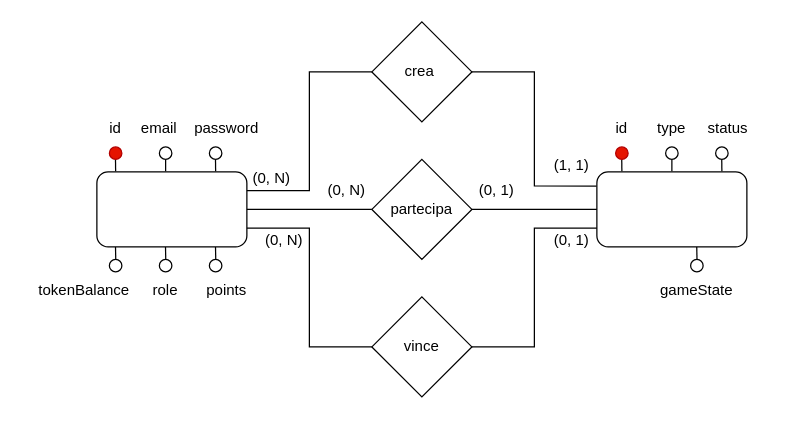
Image size: 806x444. Some labels were removed from this diagram. The centre of each missing label's shape, as x and y in pixels:
"games" goes at pixel 671 209.
"users" goes at pixel 171 209.
